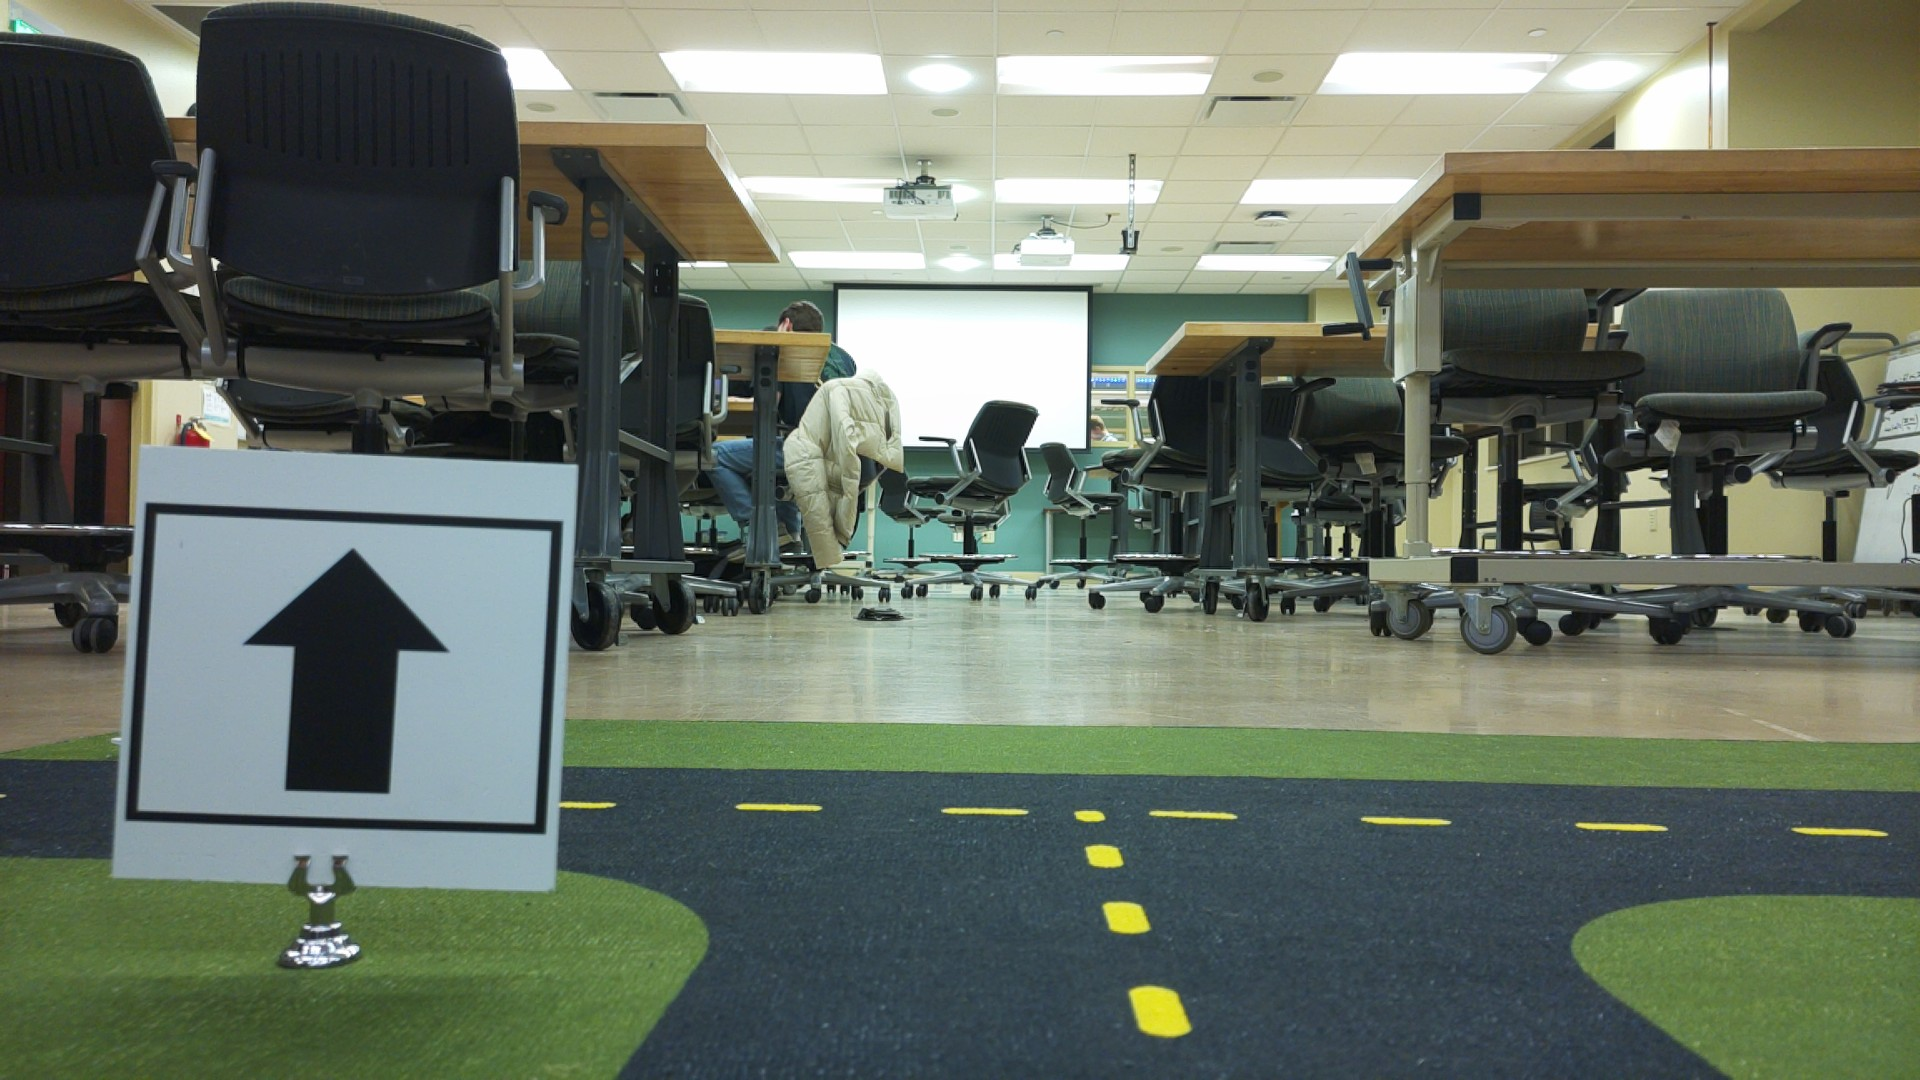gostraight: (141, 468, 566, 872)
